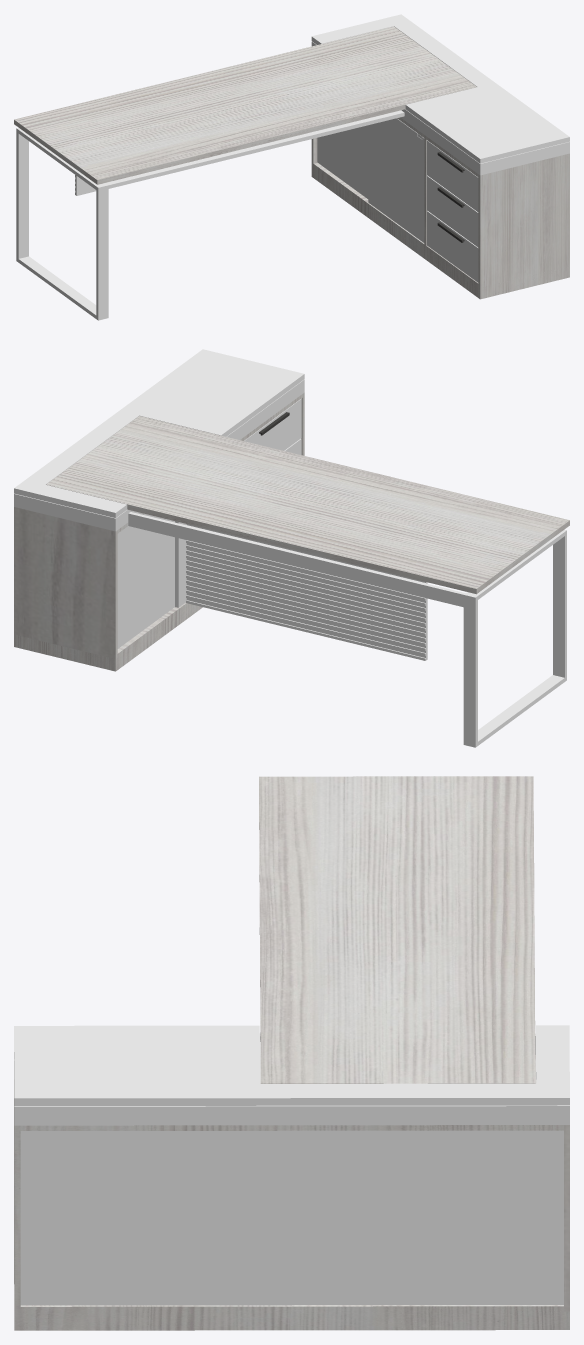
The model's file is angled-desk.obj.
3 views of the same model, one above another, from view 1: azimuth 30°, elevation 25°; view 2: azimuth 150°, elevation 25°; view 3: azimuth 270°, elevation 25° (orthographic). The views are drawn at different scales.
Visible parts, largest first — view 1: angled-desk.002; view 2: angled-desk.002; view 3: angled-desk.002.
Boxes of the visible parts, x1,y1,x2,y2 form: angled-desk.002: [14, 14, 569, 320]; angled-desk.002: [14, 349, 569, 747]; angled-desk.002: [14, 776, 569, 1330].
Size of the model in its own units: 3.05 by 1.03 by 2.23.
Materials: 4 (4 with a texture image).
